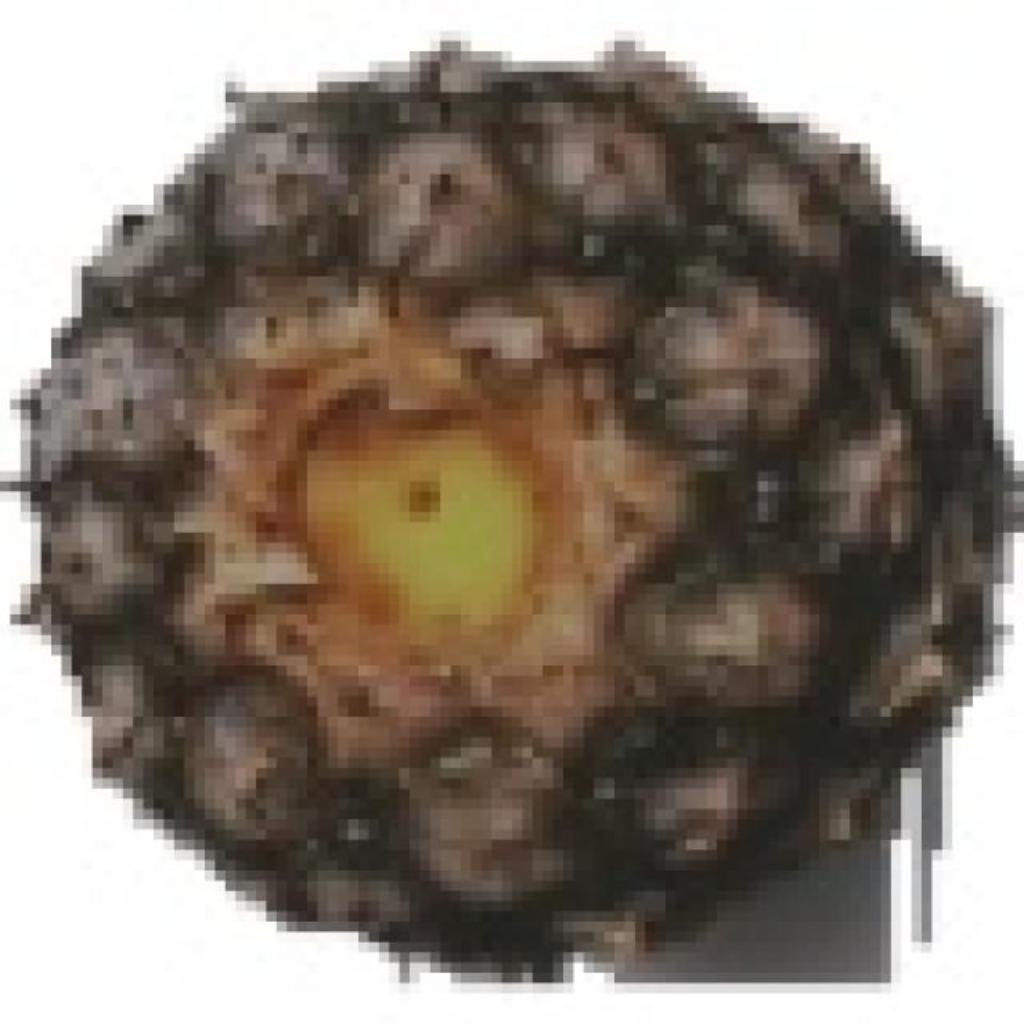pineapple: (10, 31, 973, 963)
